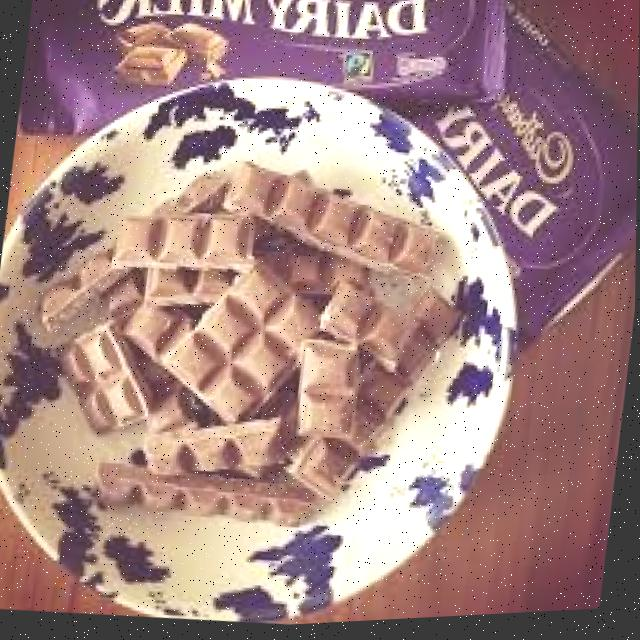cadbury: (293, 0, 640, 352), (16, 0, 510, 175)
